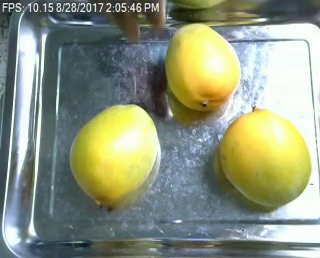Mango: (217, 108, 314, 208), (69, 104, 158, 208), (160, 22, 241, 109)
